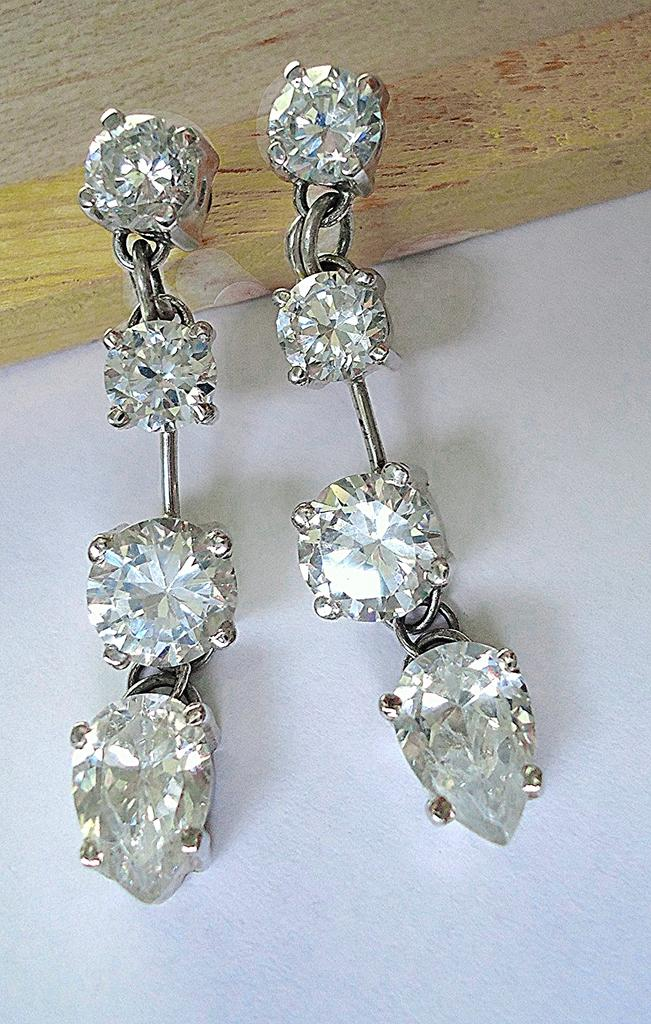earring: (264, 52, 544, 853), (63, 103, 232, 904)
